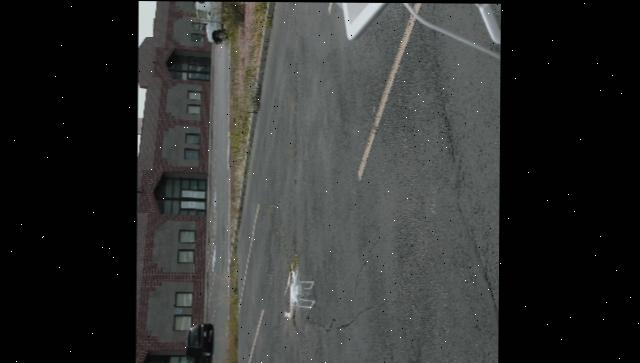drone: (284, 266, 314, 320)
